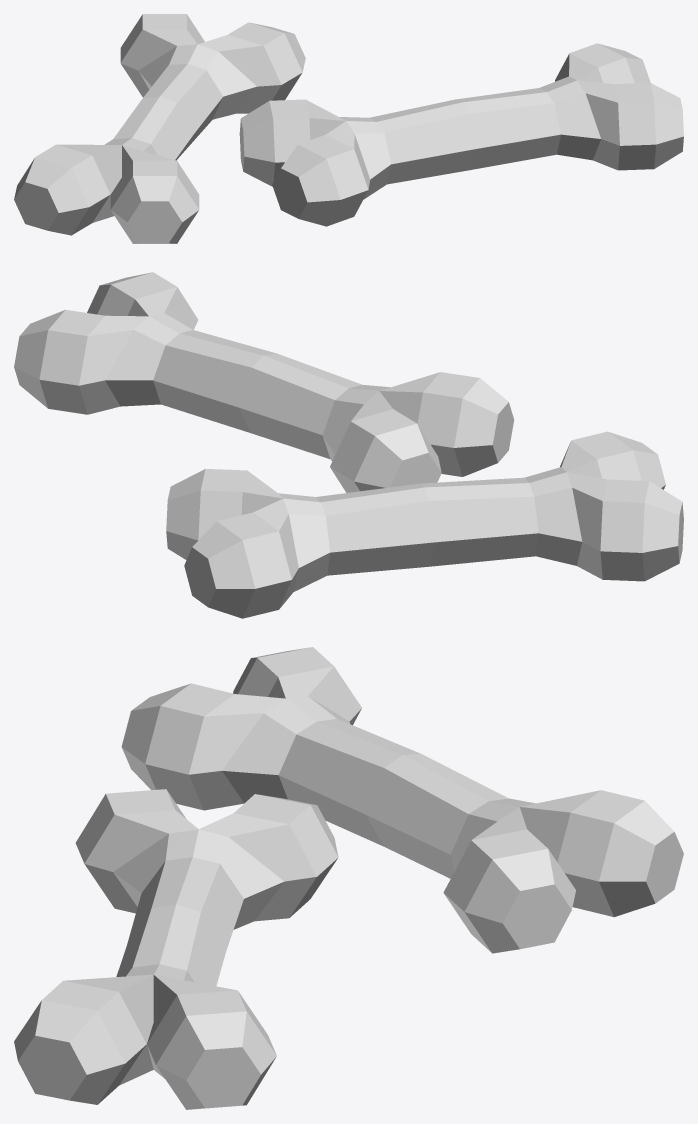
File: Skeleton 3.fbx
3 renders of one model, top to bottom at view 1: azimuth 30°, elevation 25°; view 2: azimuth 150°, elevation 25°; view 3: azimuth 270°, elevation 25°, orthographic. The views are drawn at different scales.
Parts seen in each view (by area): view 1: Skeleton 3; view 2: Skeleton 3; view 3: Skeleton 3.
Part boxes in pixels (<box>): Skeleton 3: <box>14,14,683,243</box>; Skeleton 3: <box>14,272,683,618</box>; Skeleton 3: <box>14,647,683,1109</box>.
Bounding box in the file's own units: 11.23 × 1.24 × 7.89.
